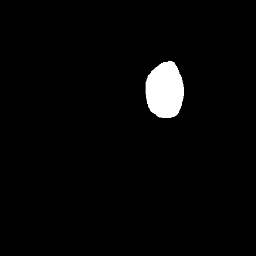mass: (185, 82, 212, 124)
